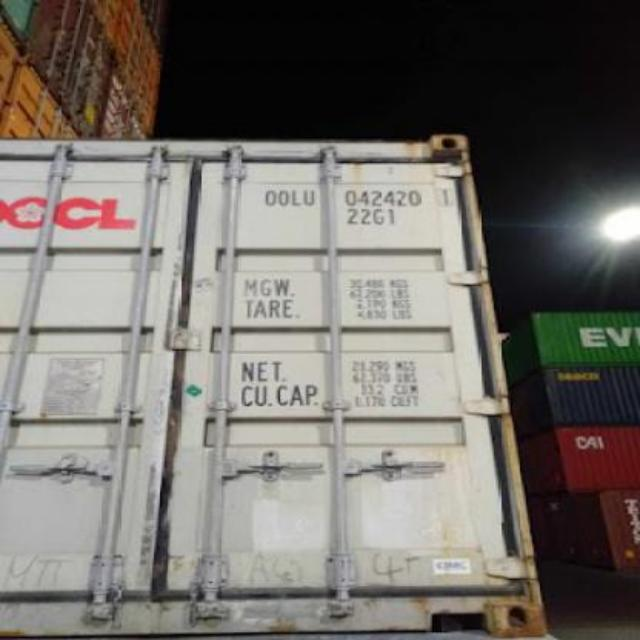0: (406, 182, 422, 212), (344, 184, 356, 208)
1: (432, 182, 458, 210)
2: (368, 178, 384, 208), (392, 184, 406, 210)
4: (358, 182, 372, 210), (382, 180, 396, 208)
L: (290, 184, 302, 214)
O: (274, 182, 290, 210), (260, 182, 276, 208)
U: (302, 182, 316, 208)
